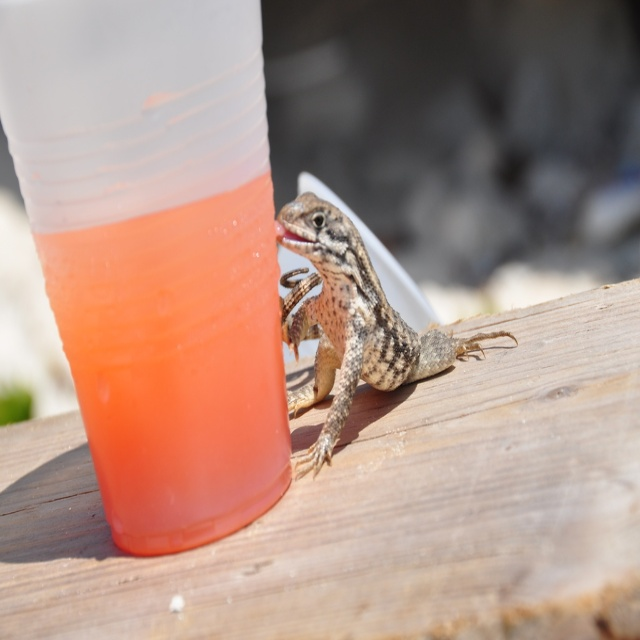Lizard: (262, 181, 529, 503)
